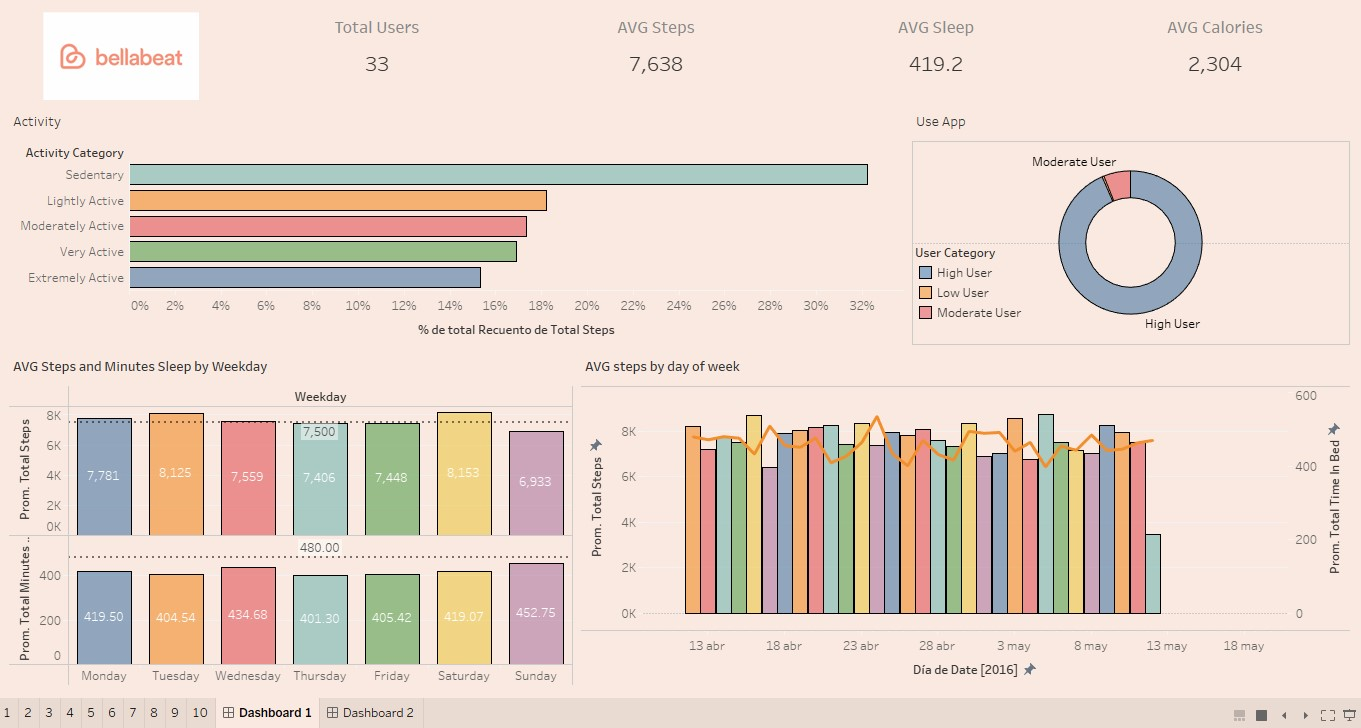

What the dashboard file says about the page in this screenshot:
{"tool":"tableau","page":{"name":"Dashboard 1","canvas":[1000,1000],"units":"permille","ordinal":0},"visuals":[{"type":"image","param":"F:/CURSOS/DATA ANALYST GOOGLE/Bellabeat---Google-Capstone/Assets/Bellabeat_logo.","box":[6.8,14.5,130.8,139.3]},{"type":"worksheet","title":"1","mark":"Automatic","box":[137.6,14.5,213.9,139.3]},{"type":"worksheet","title":"2","mark":"Automatic","box":[351.5,14.5,213.9,139.3]},{"type":"worksheet","title":"3","mark":"Automatic","box":[565.4,14.5,213.9,139.3]},{"type":"worksheet","title":"4","mark":"Automatic","box":[779.3,14.5,213.9,139.3]},{"type":"worksheet","title":"5","mark":"Automatic","rows":["Calculation_957859408288919552"],"cols":["TotalSteps"],"box":[6.8,153.8,659.4,415.6]},{"type":"worksheet","title":"6","mark":"Pie","rows":["Calculation_957859408320114700","Calculation_957859408320774158"],"box":[666.2,153.8,327,415.6]},{"type":"legend","title":"6","param":"[federated.0rk0b7v02zz22k19sysv20qh5g7t].[none:Calculation_957859408316891144:nk","box":[672.9,411.2,120.7,141.3]},{"type":"worksheet","title":"7","mark":"Automatic","rows":["TotalSteps","TotalMinutesSleep"],"cols":["Calculation_957859408289198082"],"box":[6.8,569.4,417.9,416.1]},{"type":"worksheet","title":"8","mark":"Automatic","rows":["TotalSteps","TotalTimeInBed"],"cols":["Date"],"box":[424.7,569.4,568.5,416.1]}]}

Visuals, with their boxes on the dashboard's canvas, which has no fixed pixel size, in thousandths of its width and height (x1, y1, x2, y2). These are canvas units, not pixel positions in the 1361x728 screenshot, which may show the page scaled, cropped or inside an application window:
image: locate(7, 14, 138, 154)
"1" worksheet: locate(138, 14, 352, 154)
"2" worksheet: locate(352, 14, 565, 154)
"3" worksheet: locate(565, 14, 779, 154)
"4" worksheet: locate(779, 14, 993, 154)
"5" worksheet: locate(7, 154, 666, 569)
"6" worksheet (Pie marks): locate(666, 154, 993, 569)
"6" legend: locate(673, 411, 794, 552)
"7" worksheet: locate(7, 569, 425, 986)
"8" worksheet: locate(425, 569, 993, 986)
